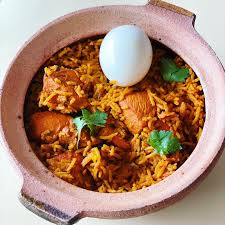briyani: (36, 24, 207, 194)
